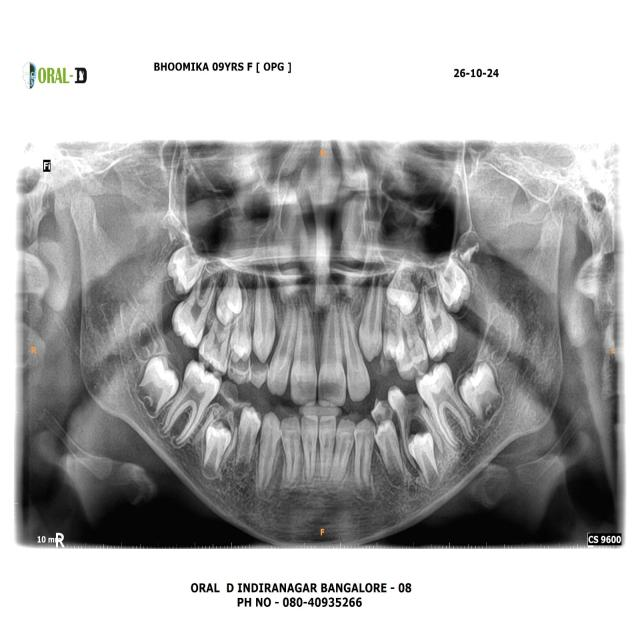Premolars: (387, 383, 443, 453), (370, 399, 394, 425)
